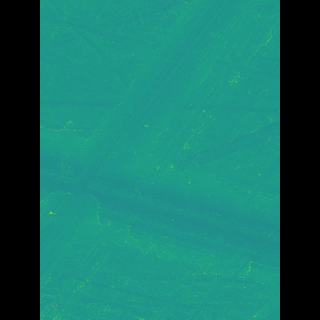Loch: (69, 0, 230, 285), (155, 149, 250, 320)
